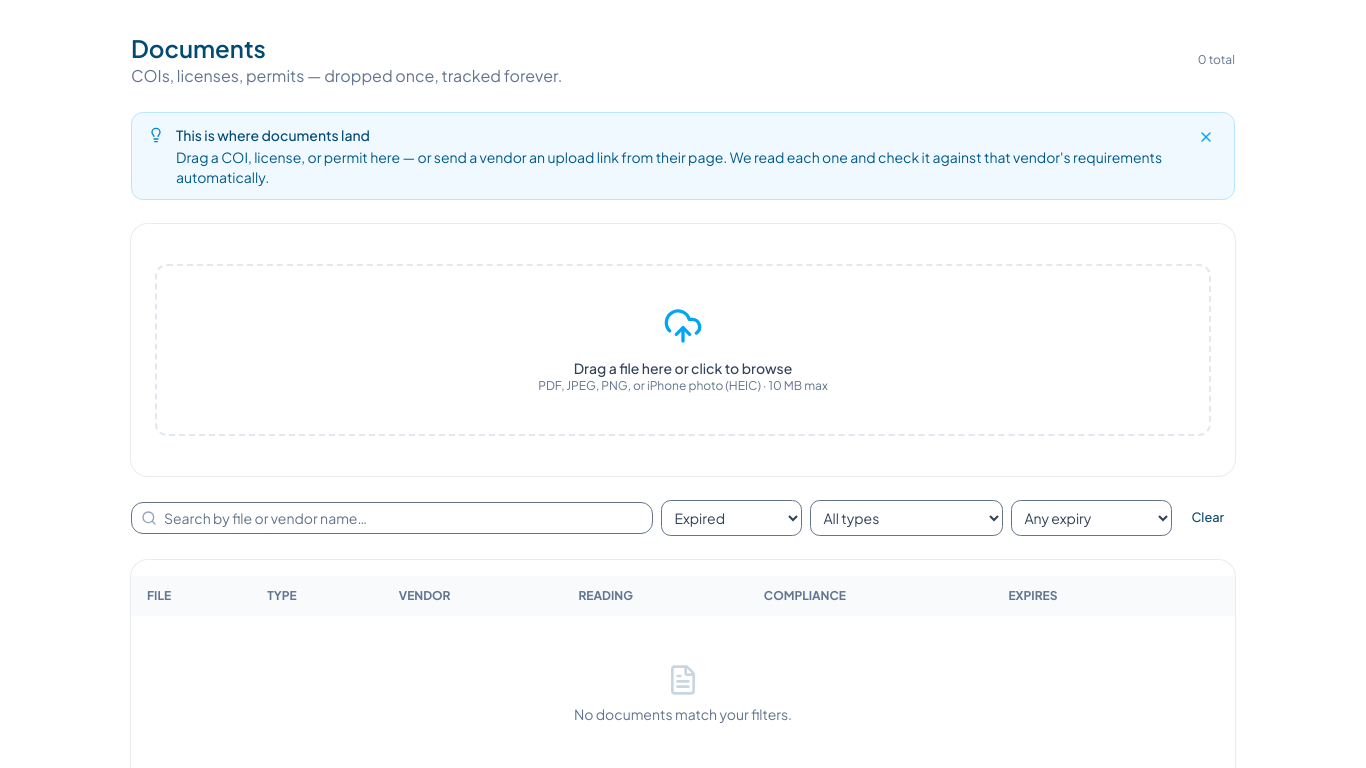
it: DocumentsPage — filter<->URL sync is two-way (#370) › Clear also drops search text typed inside the debounce window
Expected: the text "No documents match your filters." is shown, [574,705,792,723]
Type "acme" into the field named "search documents". click: (392,518)
box: [131,502,653,534]
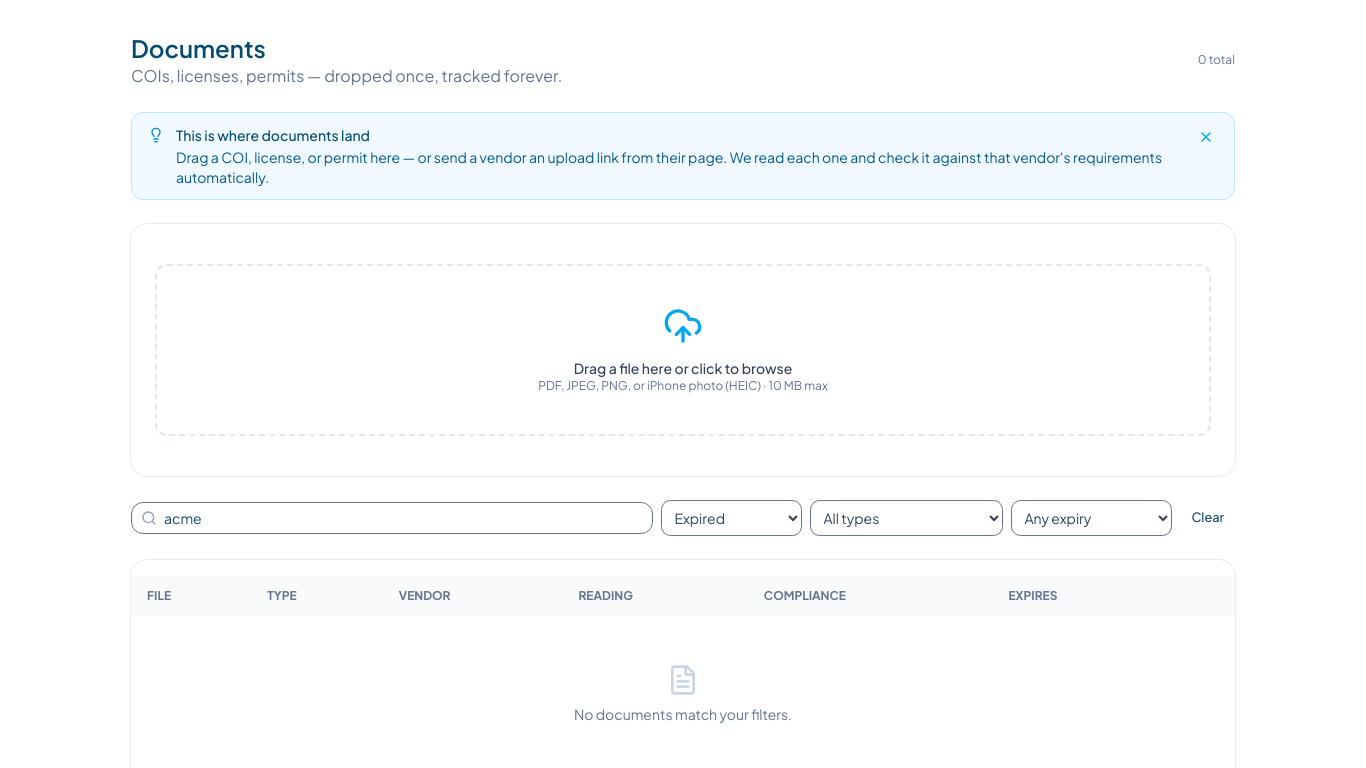
Click the button "Clear". click: (1208,518)
box: [1180,504,1235,532]
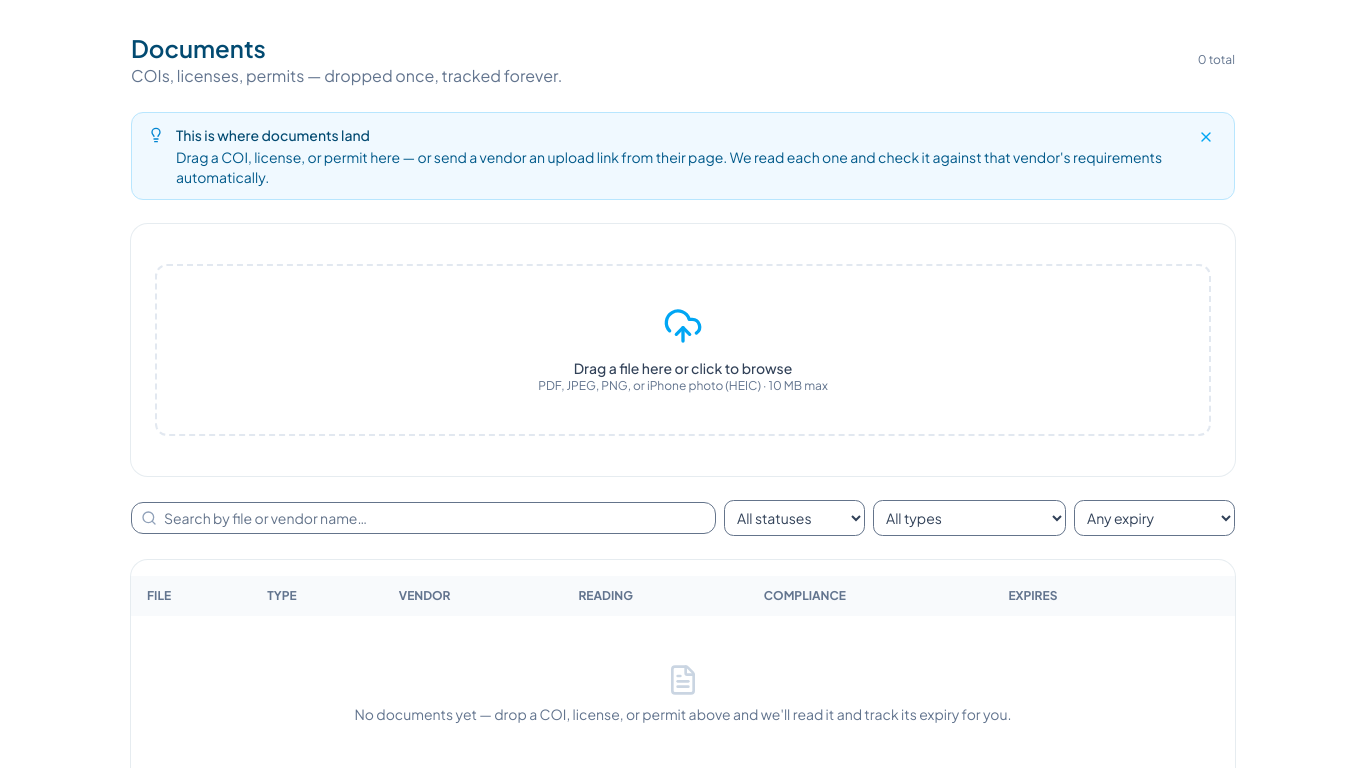
Expected: the field named "search documents" is empty, [131,502,716,534]
